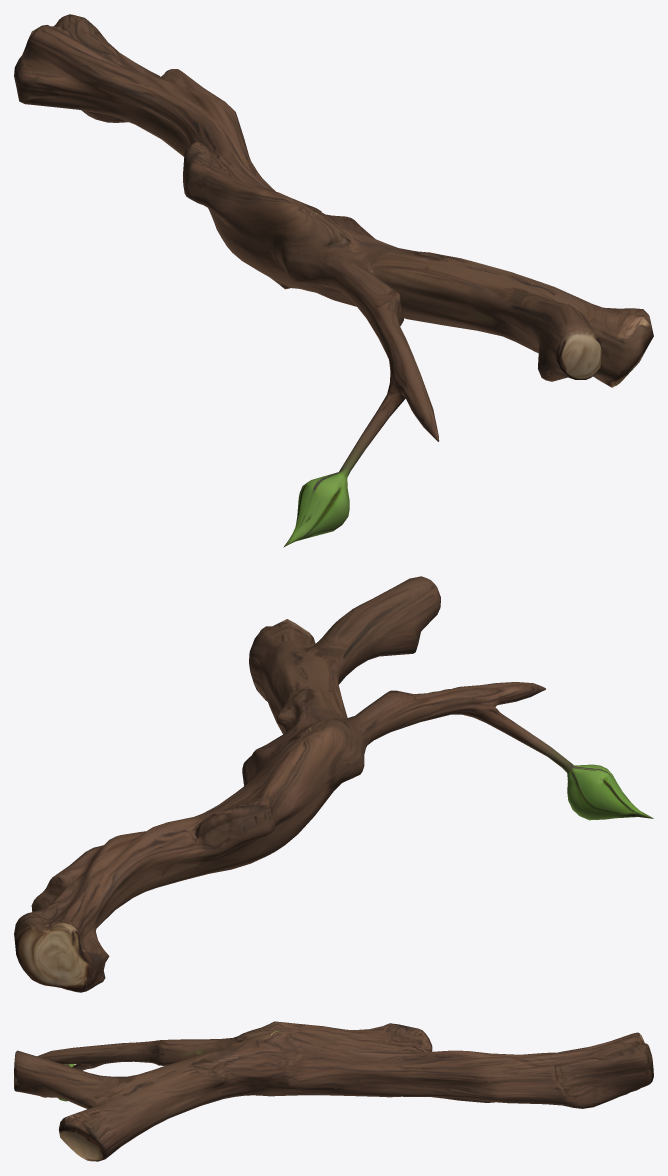
File: EQ_Wooden_Staff.fbx
3 views of the same model, one above another, from view 1: azimuth 30°, elevation 25°; view 2: azimuth 150°, elevation 25°; view 3: azimuth 270°, elevation 25° (orthographic). The views are drawn at different scales.
Parts seen in each view (by area): view 1: Wooden_Staff; view 2: Wooden_Staff; view 3: Wooden_Staff.
Part boxes in pixels (bbox=[...]): Wooden_Staff: bbox=[14, 14, 653, 547]; Wooden_Staff: bbox=[14, 576, 653, 992]; Wooden_Staff: bbox=[14, 1021, 653, 1161].
Size of the model in its own units: 62.49 by 26.68 by 129.
1 material, 1 textured.
